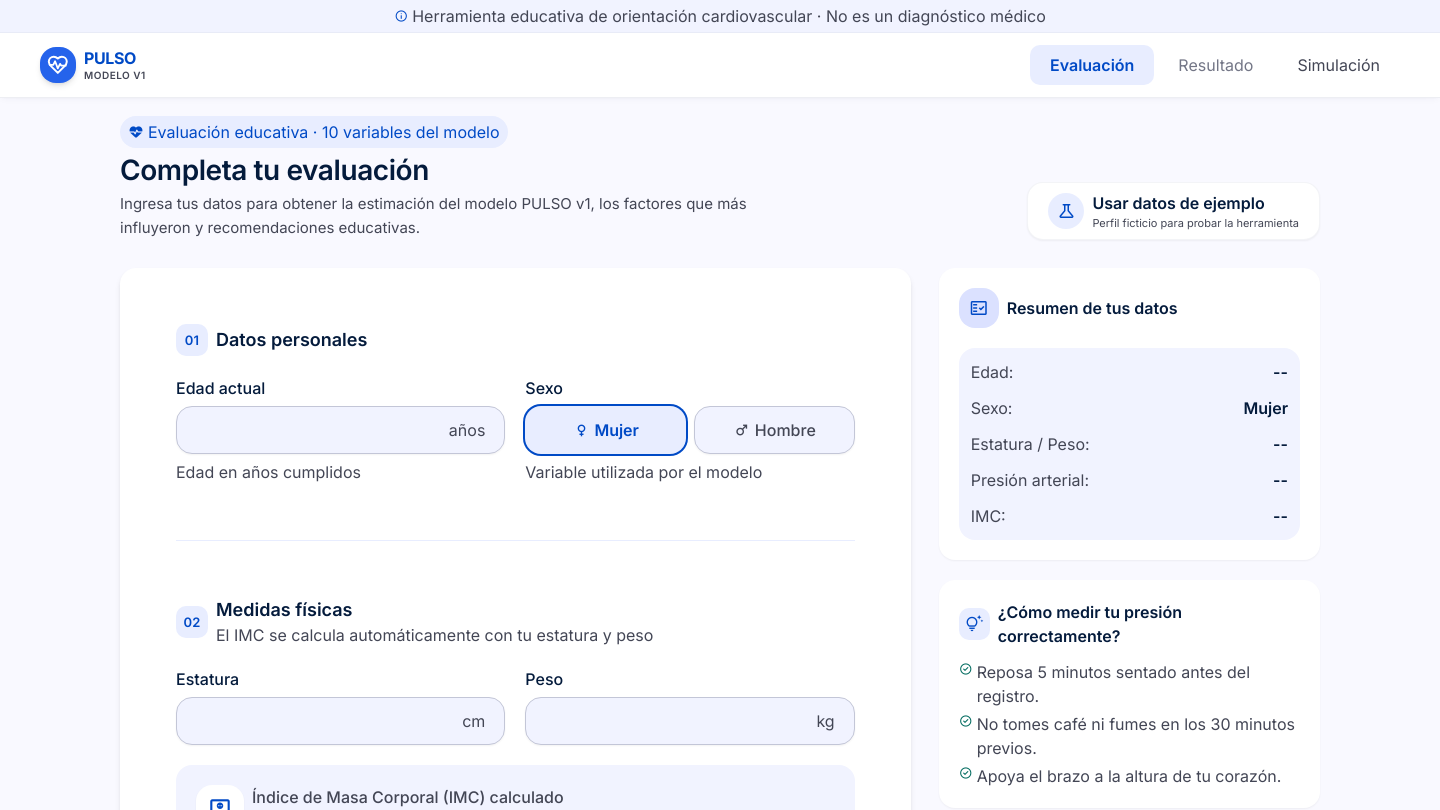
Test: interpretación del resultado › explica en lenguaje sencillo un resultado por debajo del umbral
Type "47" into the number field labelled "Edad actual" at [341, 430], box [176,406,505,454]
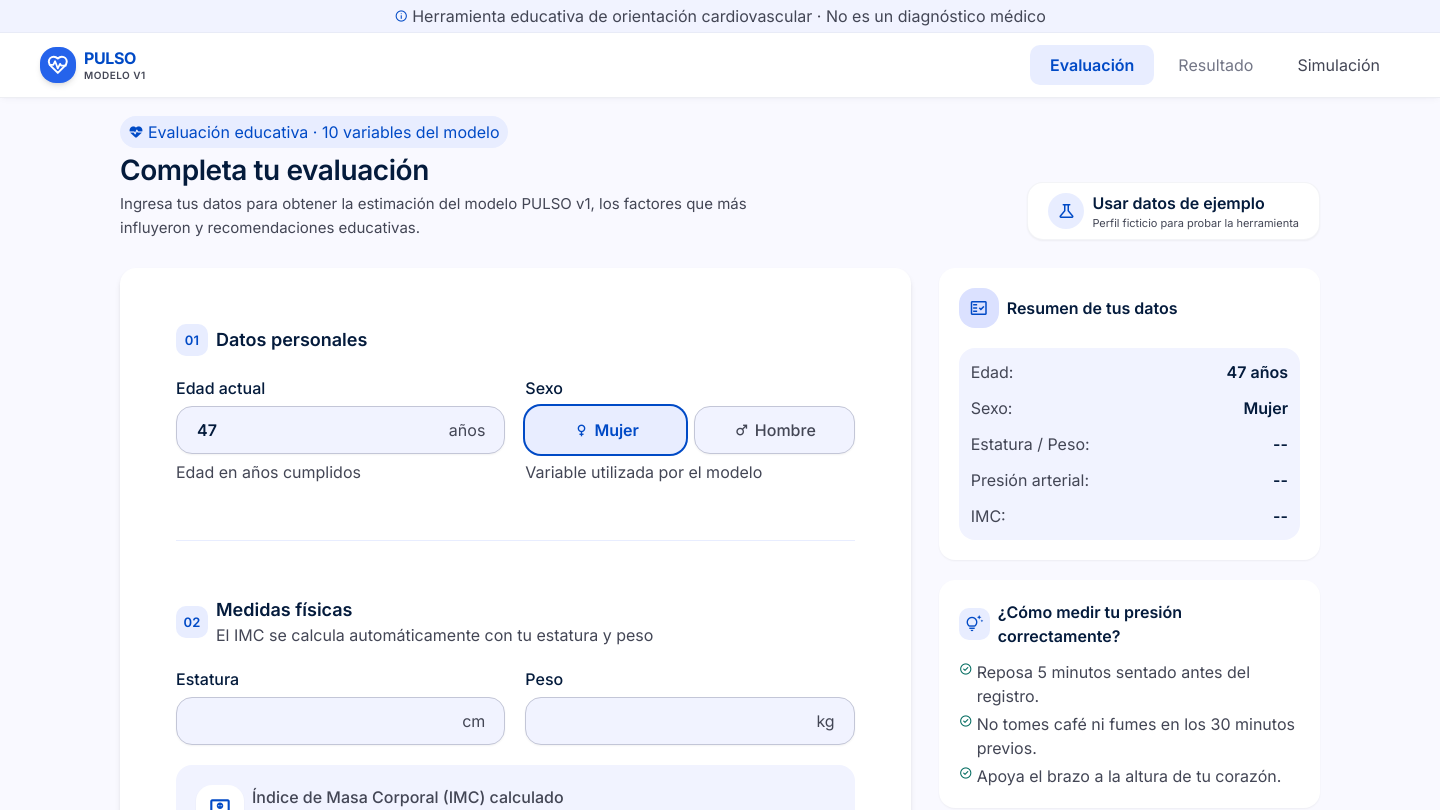
Type "170" into the number field labelled "Estatura" at [341, 721], box [176,697,505,745]
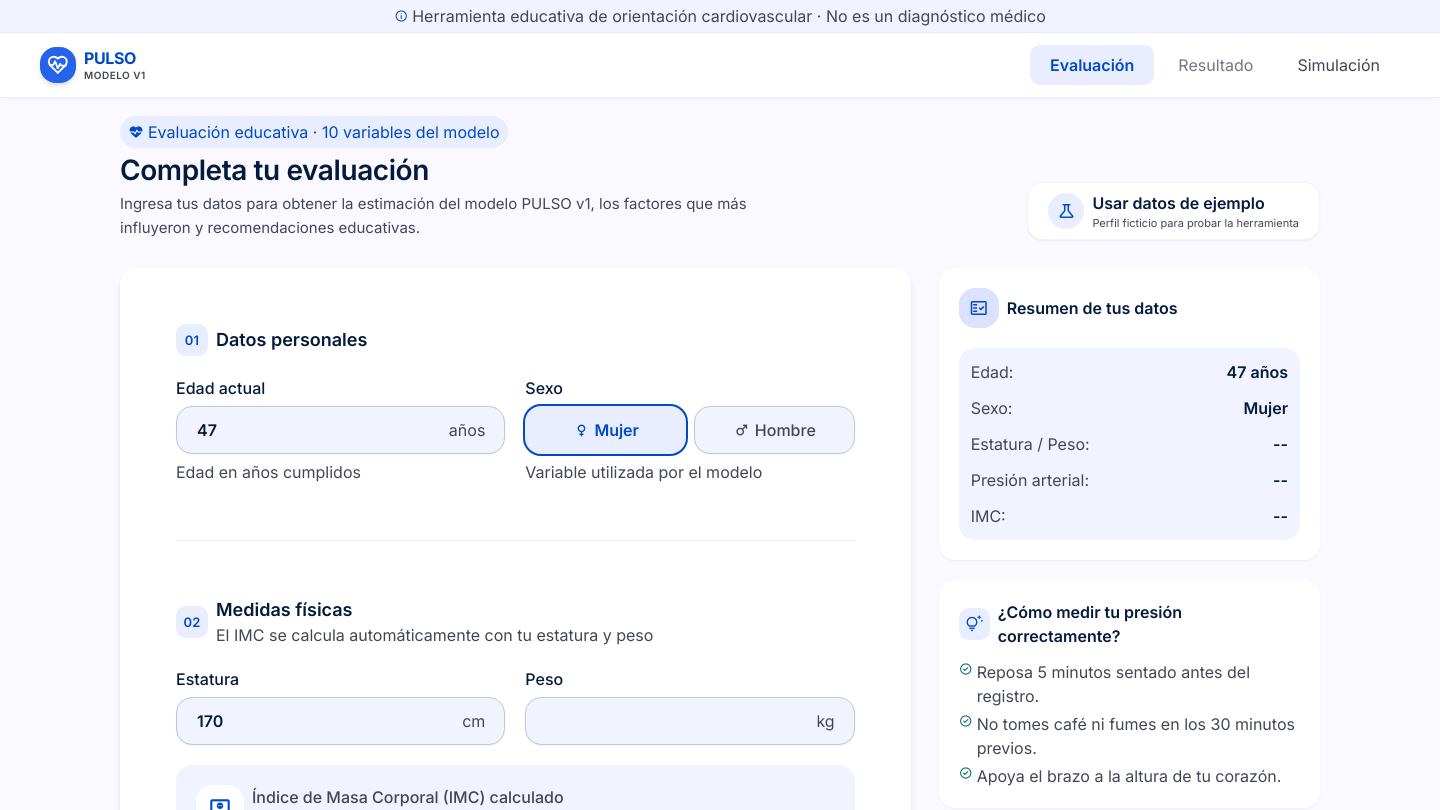
Type "80" into the number field labelled "Peso" at [690, 721], box [525,697,855,745]
(page scrolled)
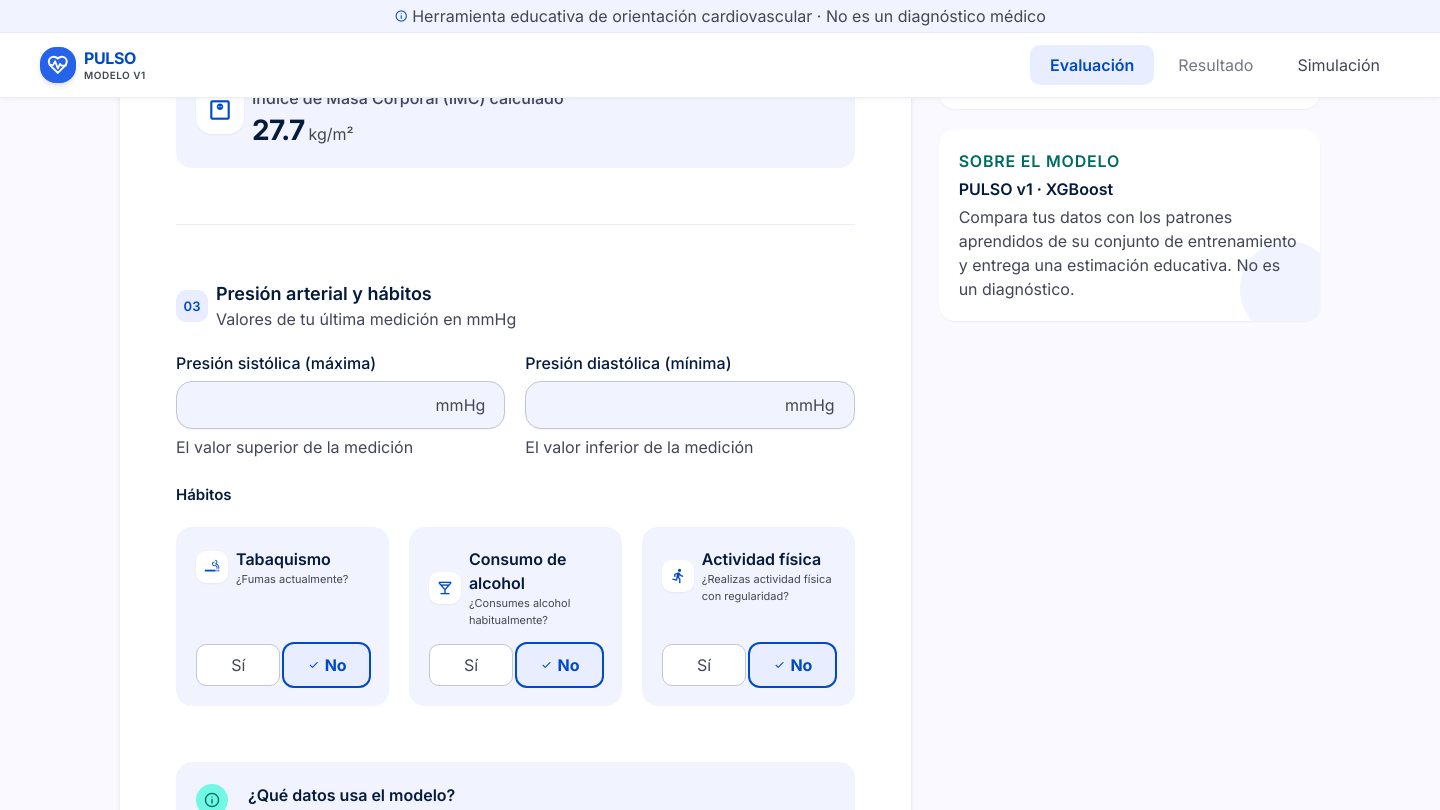
Type "128" into the number field labelled "Presión sistólica (máxima)" at [341, 405], box [176,381,505,429]
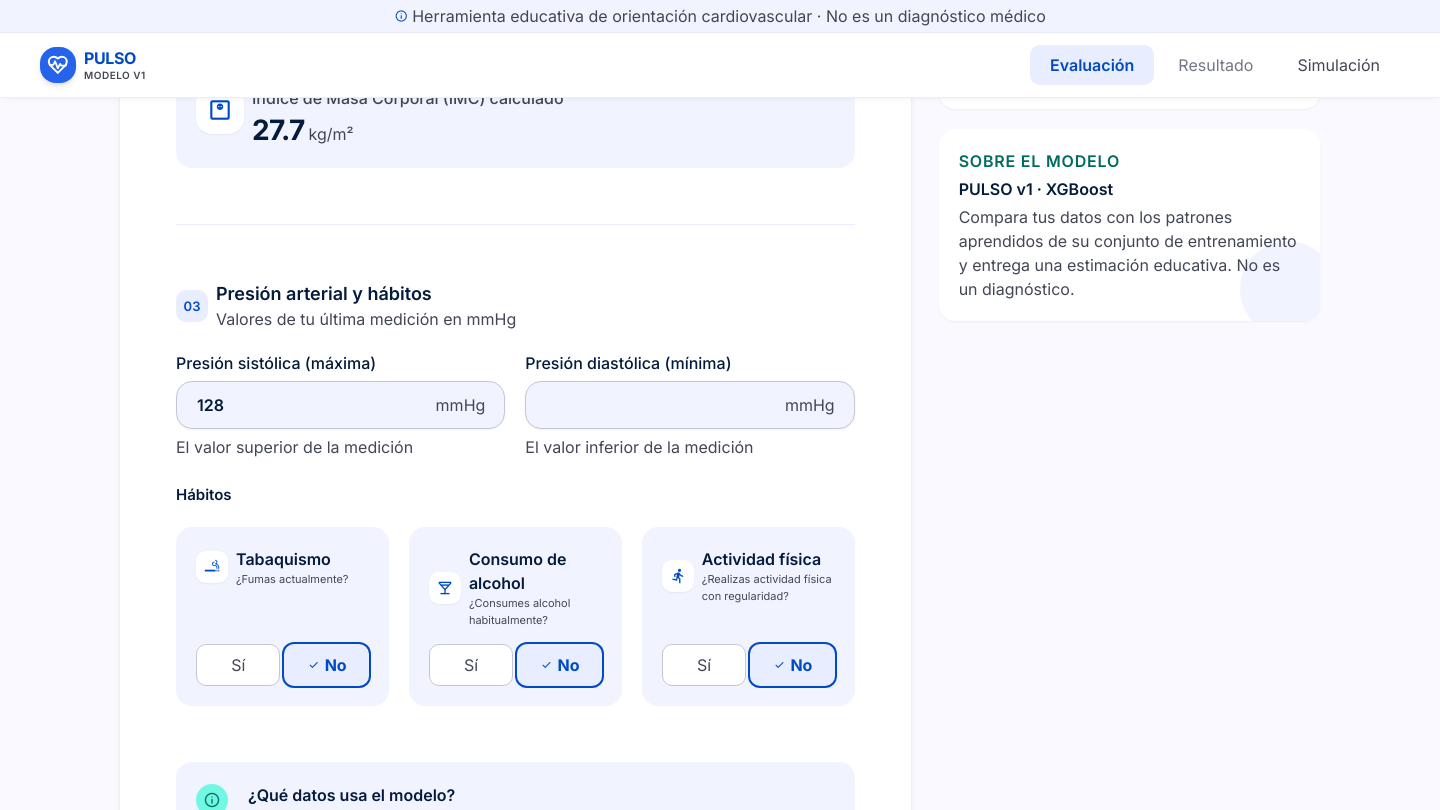
Type "82" into the number field labelled "Presión diastólica (mínima)" at [690, 405], box [525,381,855,429]
(page scrolled)
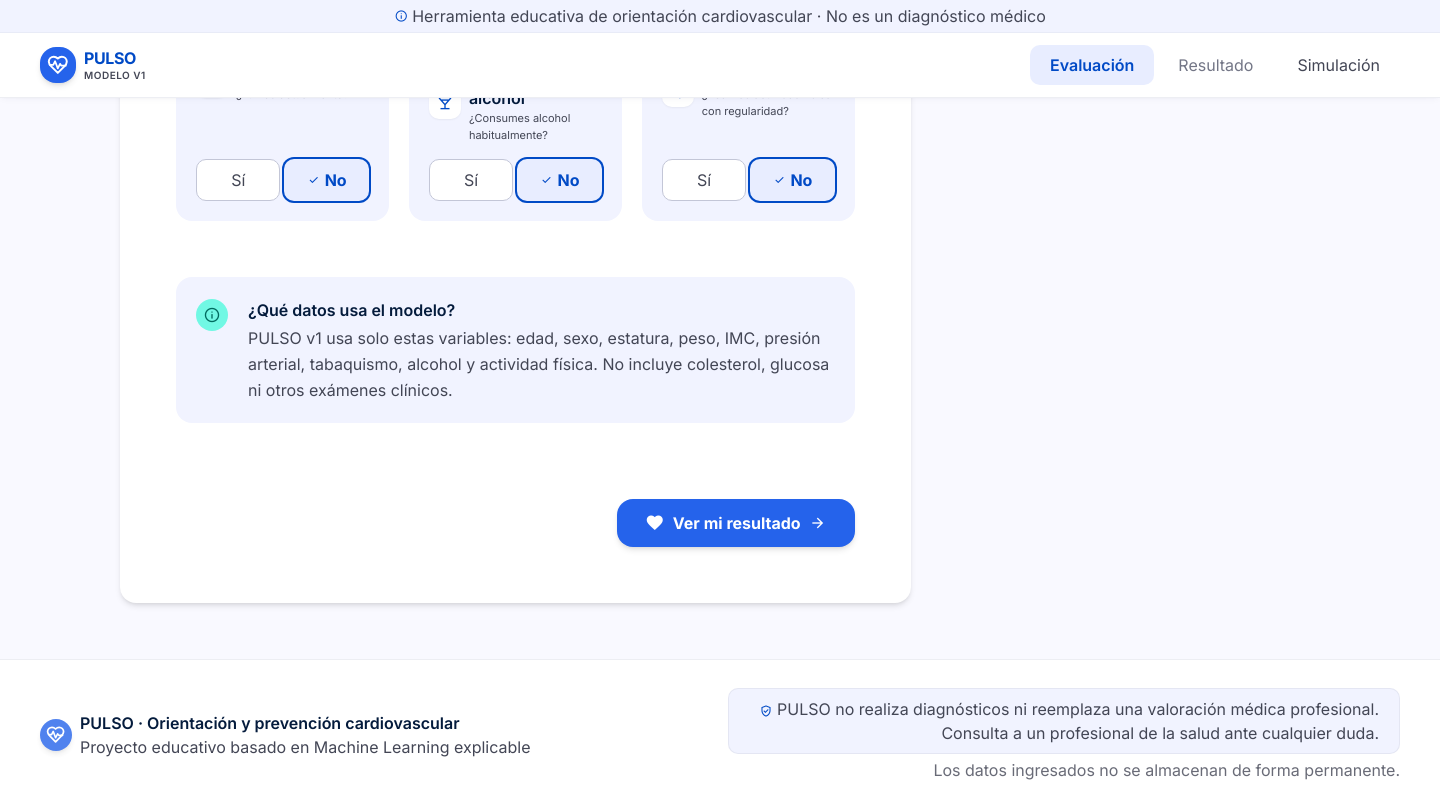
Click the button "Ver mi resultado" at [736, 523], box [617,499,855,547]
(page scrolled)
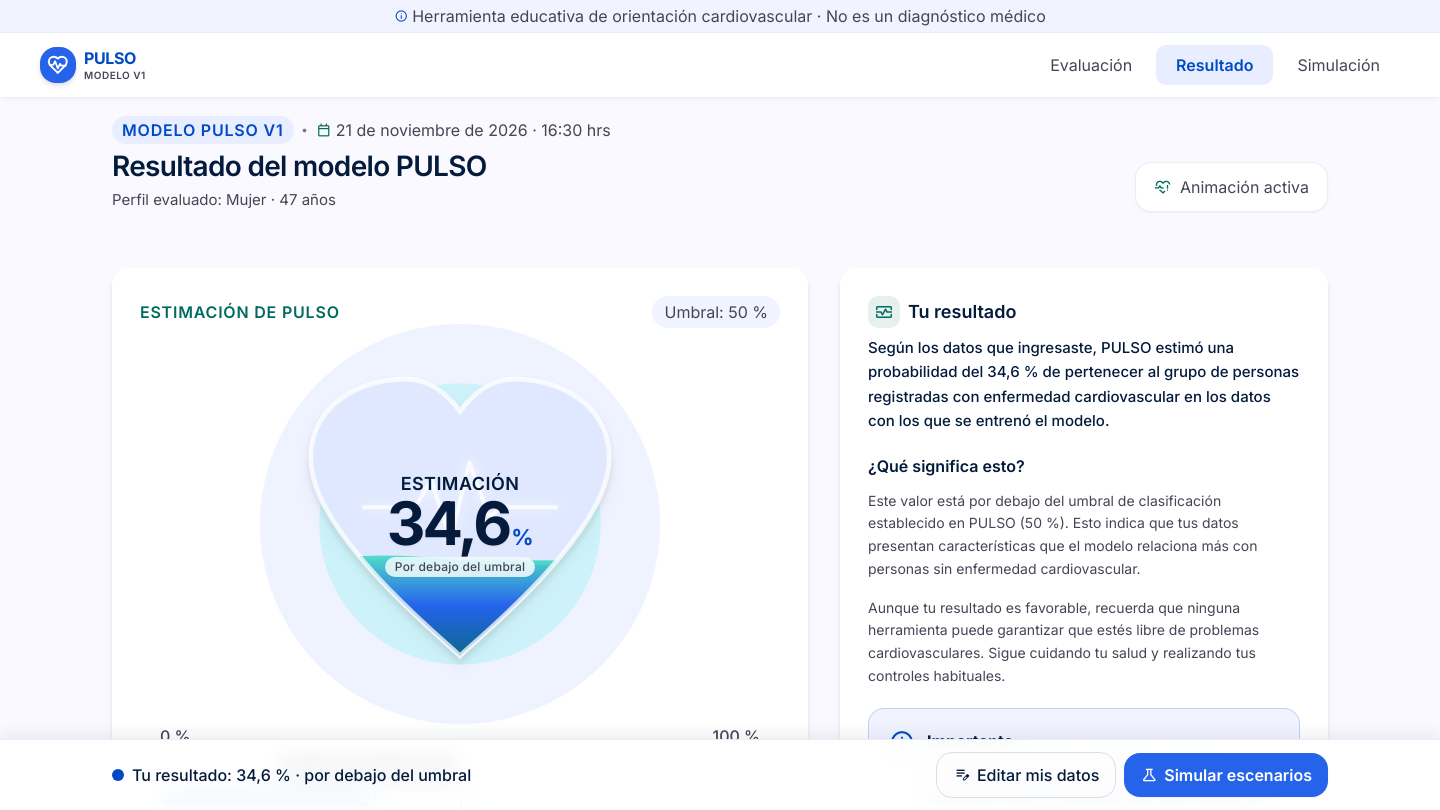
Check: the text with test id "result-summary" shows "Según los datos que ingresaste, PULSO estimó una probabilidad del 34,6 % de pertenecer al grupo de personas registradas con enfermedad cardiovascular en los dat", box [868,338,1299,430]
Check: the element with test id "result-meaning" shows "Este valor está por debajo del umbral de clasificación establecido en PULSO (50 %)", box [868,492,1258,577]
Check: the element with test id "result-meaning" shows "tus datos presentan características que el modelo relaciona más con personas sin enfermedad cardiovascular", box [868,492,1258,577]
